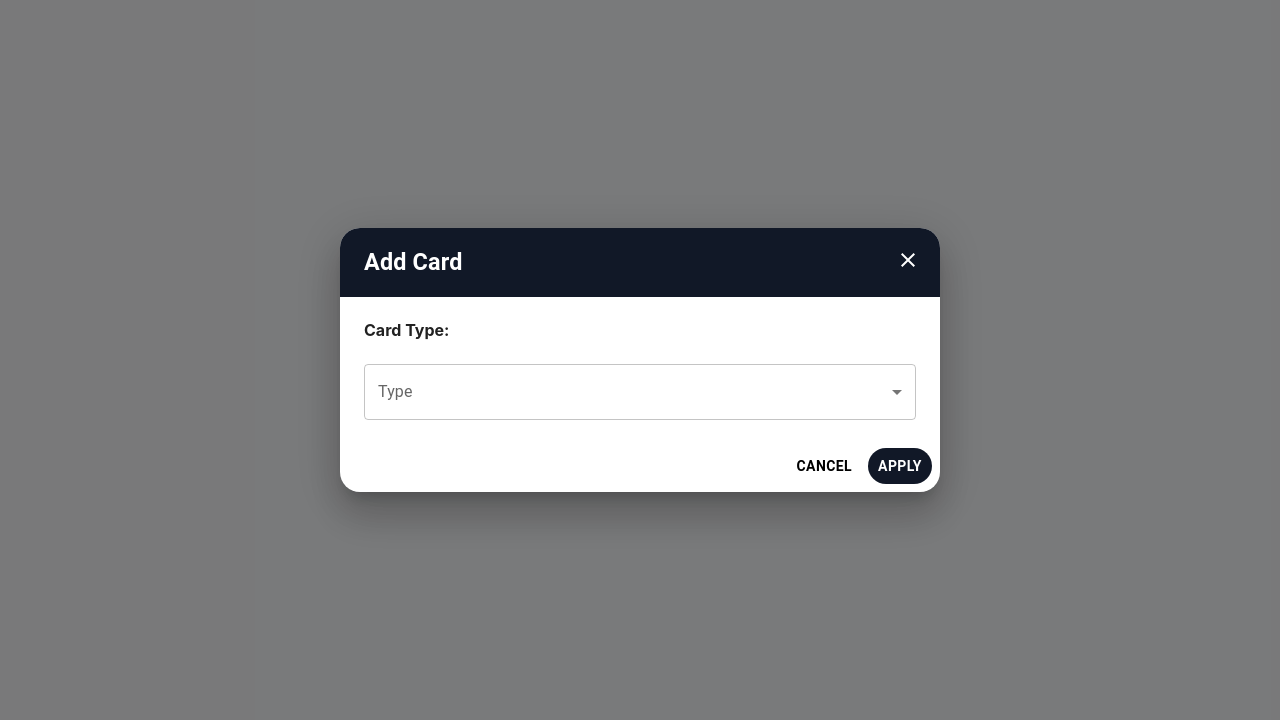
EditDialogAdd › should show an error message when "Apply" is clicked without selecting a type
The width and height of the screenshot is (1280, 720).
Click the button "Apply": (900, 466) [868,448,932,484]
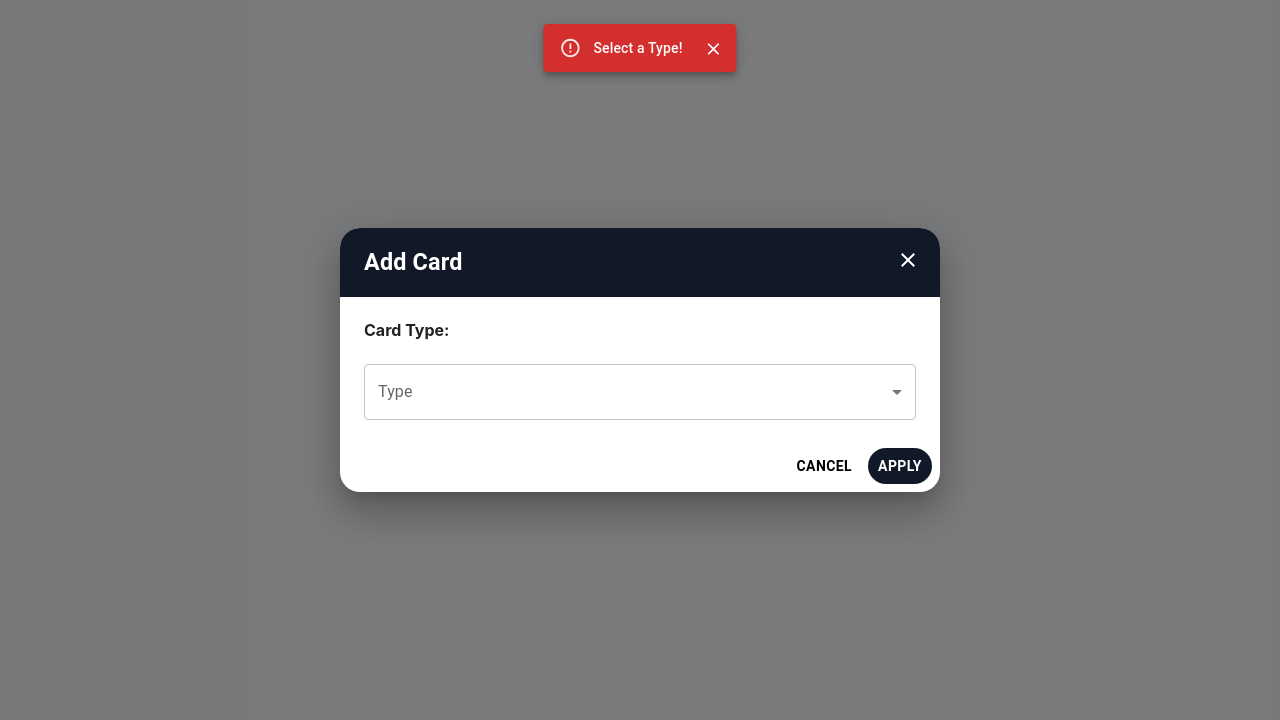
expect the text "Select a Type!" is shown: met, box [593,40,683,56]
